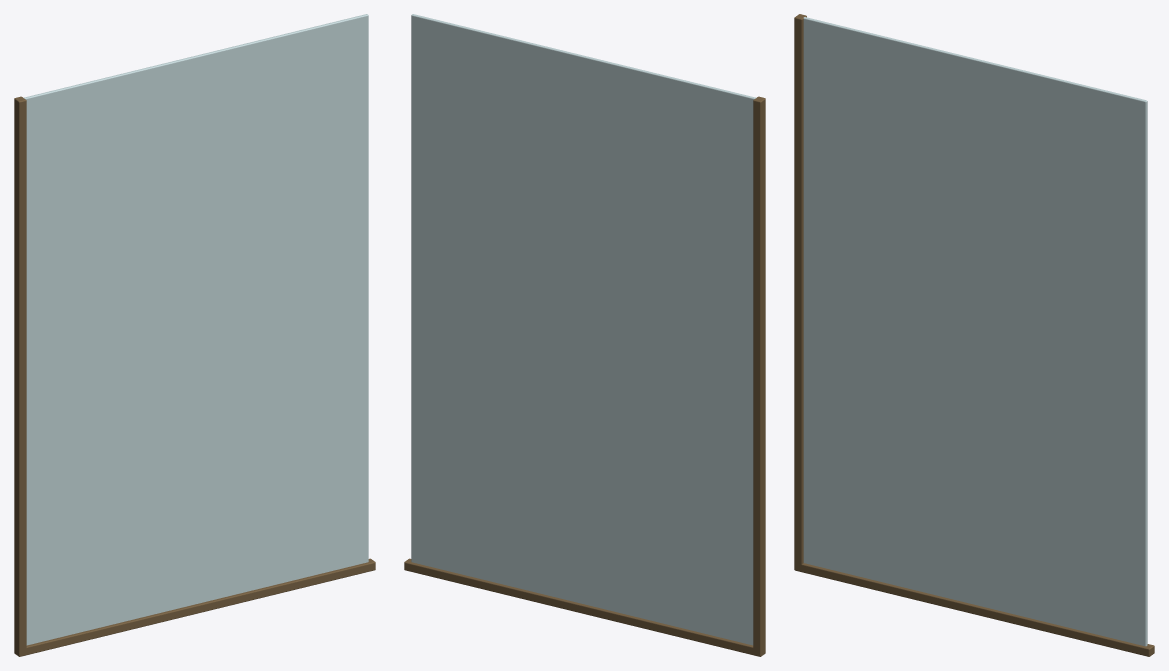
Rendered from shower-screen.glb.
3 views of the same model, side by side, from view 1: azimuth 30°, elevation 25°; view 2: azimuth 150°, elevation 25°; view 3: azimuth 330°, elevation 25° (orthographic).
Visible parts, largest first — view 1: Glass screen; view 2: Glass screen; view 3: Glass screen.
Part boxes in pixels (box(x1,y1,x2,y2)): Glass screen: box(14, 14, 375, 656); Glass screen: box(404, 14, 765, 656); Glass screen: box(794, 14, 1154, 656).
Size of the model in its own units: 1.35 by 2 by 0.035.
